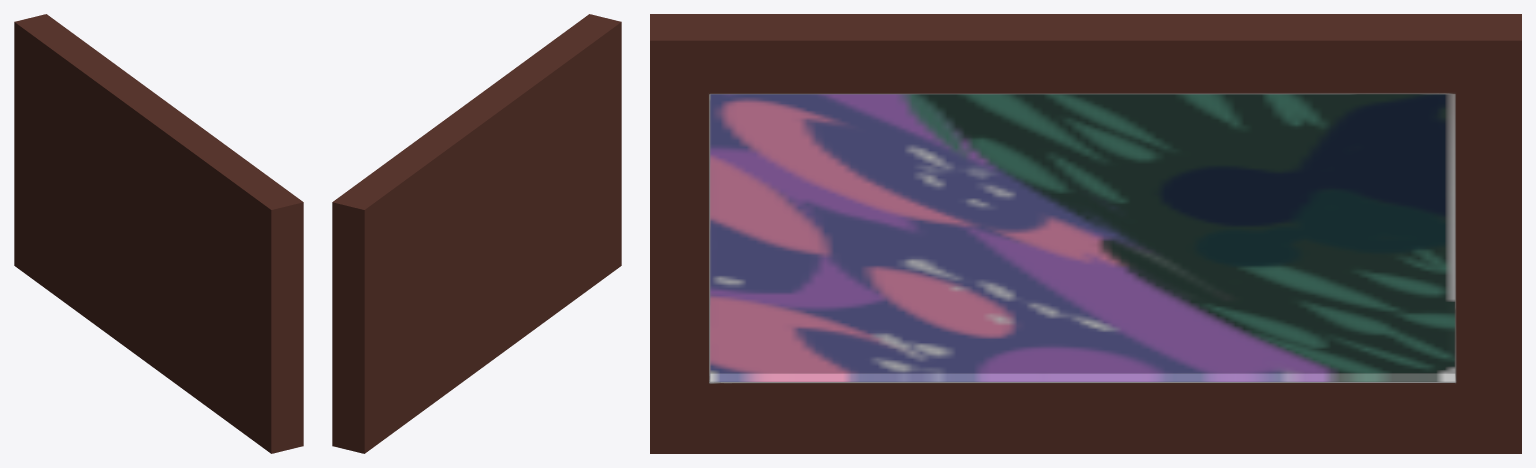
File: painting.fbx
3 renders of one model, left to right at view 1: azimuth 30°, elevation 25°; view 2: azimuth 150°, elevation 25°; view 3: azimuth 270°, elevation 25°, orthographic. The views are drawn at different scales.
Parts seen in each view (by area): view 1: Cube; view 2: Cube; view 3: Cube.
Boxes of the visible parts, x1=… form: Cube: x1=14, y1=14, x2=303, y2=453; Cube: x1=332, y1=14, x2=621, y2=453; Cube: x1=650, y1=14, x2=1521, y2=453.
Size of the model in its own units: 30.06 by 217 by 415.
